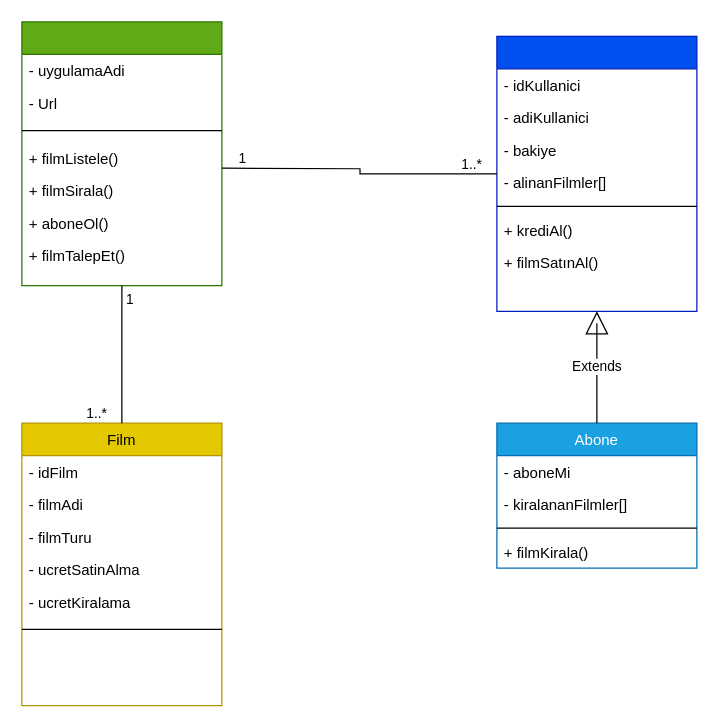
This 719x728 diagram has some shape labels left out. The shapes that lost their labels are listed below. From the top down, each one's box as (x1, y1, x2, y2) in pixels, then its label:
(21, 21, 222, 286): Film Uygulaması
(496, 35, 697, 311): Kullanıcı
